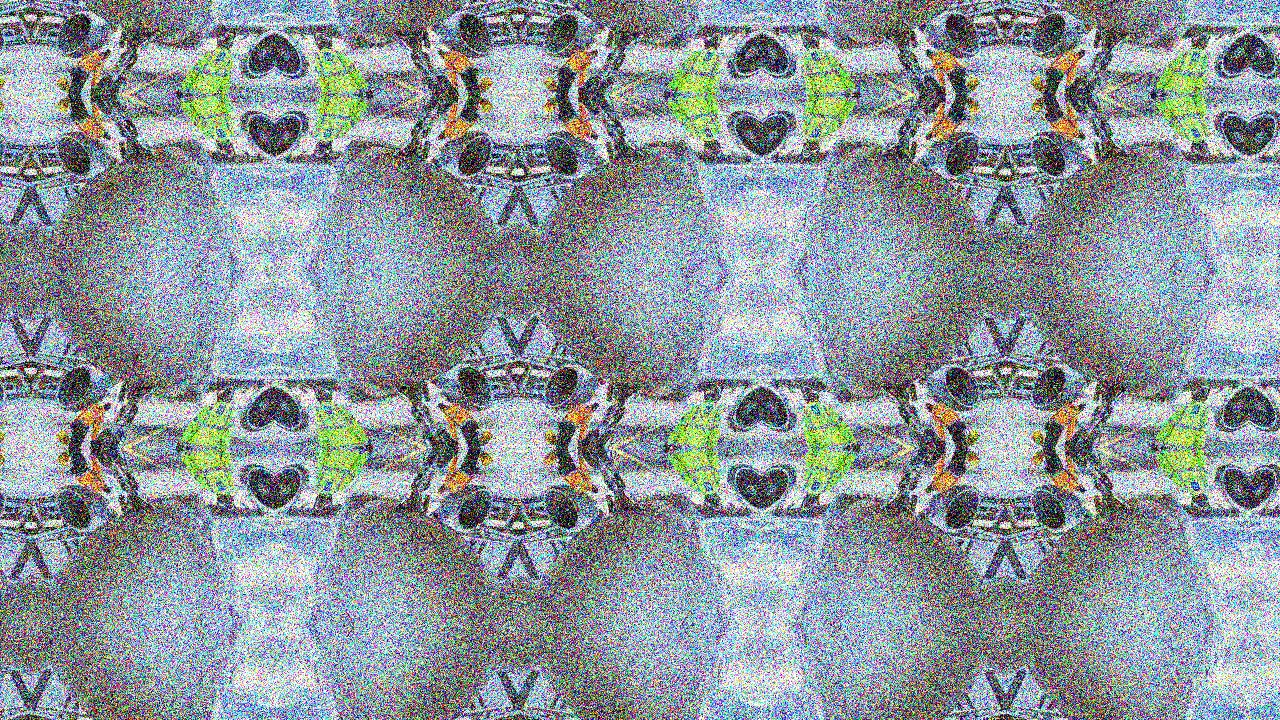chock: (50, 74, 78, 94), (470, 74, 498, 94), (538, 74, 566, 94), (958, 74, 986, 94), (1026, 74, 1054, 94), (50, 94, 78, 114), (470, 94, 498, 114), (538, 94, 566, 114), (958, 94, 986, 114), (1026, 94, 1054, 114), (50, 428, 78, 448), (470, 428, 498, 448), (538, 428, 566, 448), (958, 428, 986, 448), (1026, 428, 1054, 448), (50, 448, 78, 468), (470, 448, 498, 468), (538, 448, 566, 468), (958, 448, 986, 468), (1026, 448, 1054, 468), (0, 74, 10, 94), (0, 94, 10, 114), (0, 428, 10, 448), (0, 448, 10, 468)
wheel: (87, 94, 116, 116), (432, 94, 461, 116), (575, 94, 604, 116), (920, 94, 949, 116), (1063, 94, 1092, 116), (87, 448, 116, 470), (432, 448, 461, 470), (575, 448, 604, 470), (920, 448, 949, 470), (1063, 448, 1092, 470), (87, 73, 116, 94), (432, 73, 461, 94), (575, 73, 604, 94), (920, 73, 949, 94), (1063, 73, 1092, 94), (87, 427, 116, 448), (432, 427, 461, 448), (575, 427, 604, 448), (920, 427, 949, 448), (1063, 427, 1092, 448), (101, 74, 131, 94), (417, 74, 447, 94), (589, 74, 619, 94), (905, 74, 935, 94), (1077, 74, 1107, 94), (101, 94, 131, 114), (417, 94, 447, 114), (589, 94, 619, 114), (905, 94, 935, 114), (1077, 94, 1107, 114), (101, 428, 131, 448), (417, 428, 447, 448), (589, 428, 619, 448), (905, 428, 935, 448), (1077, 428, 1107, 448), (101, 448, 131, 468), (417, 448, 447, 468), (589, 448, 619, 468), (905, 448, 935, 468), (1077, 448, 1107, 468), (124, 51, 140, 69), (408, 51, 424, 69), (612, 51, 628, 69), (896, 51, 912, 69), (1100, 51, 1116, 69), (124, 119, 140, 137), (408, 119, 424, 137), (612, 119, 628, 137), (896, 119, 912, 137), (1100, 119, 1116, 137), (124, 405, 140, 423), (408, 405, 424, 423), (612, 405, 628, 423), (896, 405, 912, 423), (1100, 405, 1116, 423), (124, 473, 140, 491), (408, 473, 424, 491), (612, 473, 628, 491), (896, 473, 912, 491), (1100, 473, 1116, 491), (117, 50, 127, 61), (421, 50, 431, 61), (605, 50, 615, 61), (909, 50, 919, 61), (1093, 50, 1103, 61), (117, 404, 127, 415), (421, 404, 431, 415), (605, 404, 615, 415), (909, 404, 919, 415), (1093, 404, 1103, 415), (117, 128, 127, 138), (421, 128, 431, 138), (605, 128, 615, 138), (909, 128, 919, 138), (1093, 128, 1103, 138), (117, 482, 127, 492), (421, 482, 431, 492), (605, 482, 615, 492), (909, 482, 919, 492), (1093, 482, 1103, 492)
